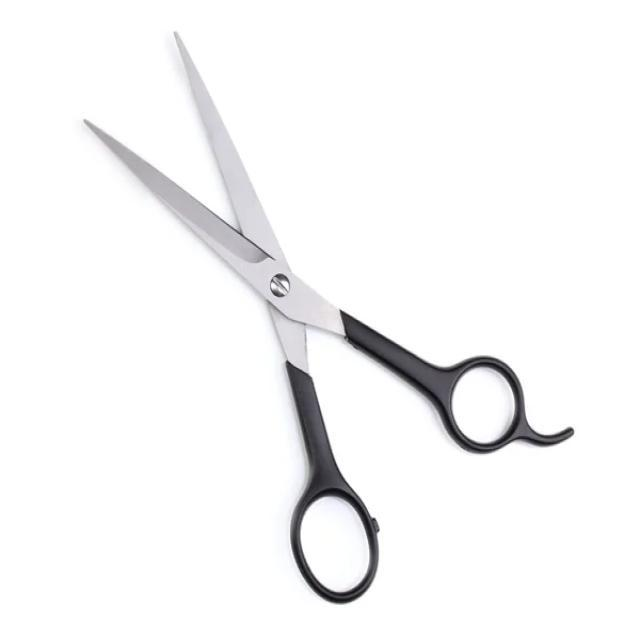tesoura: (80, 25, 578, 608)
